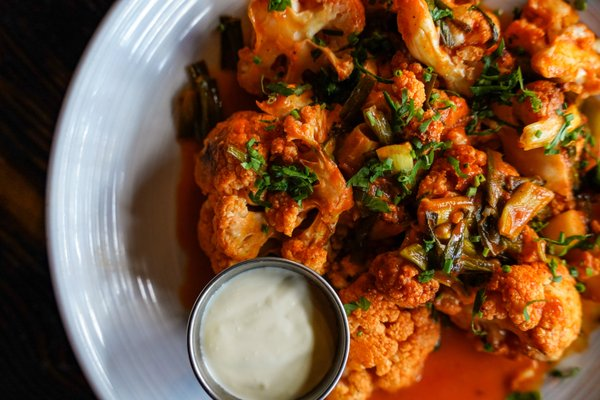sushi: (187, 257, 351, 397)
